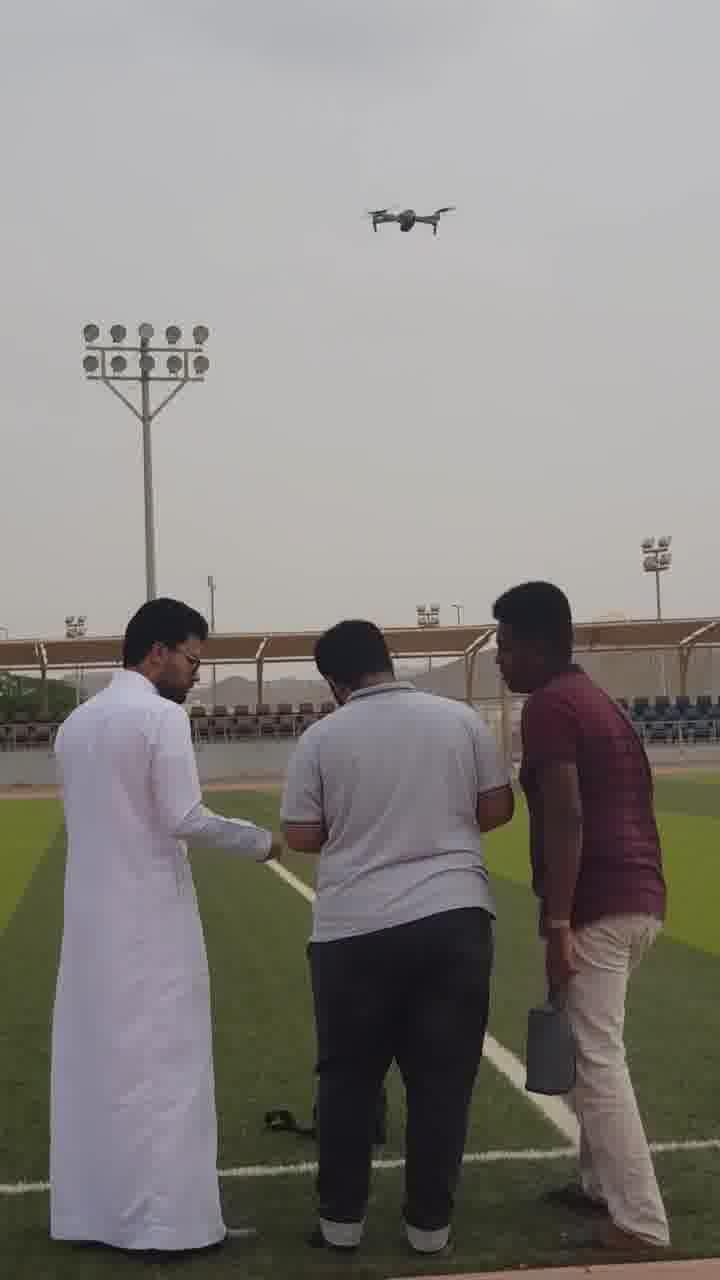drone: (355, 192, 454, 246)
